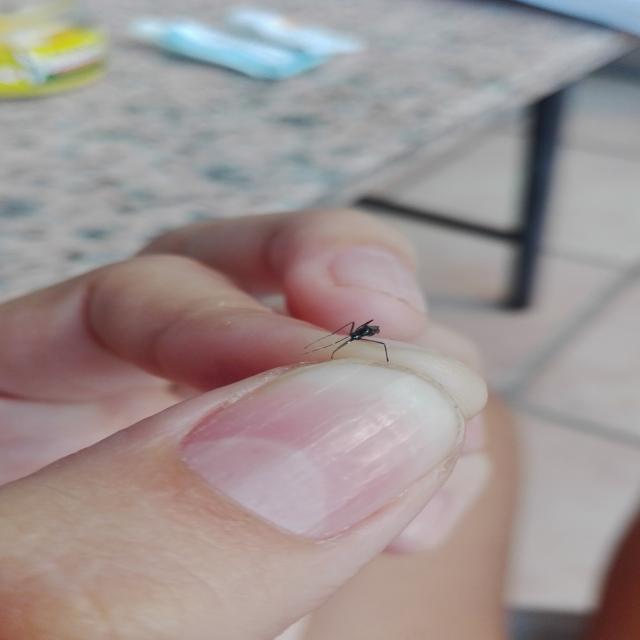albopictus: (301, 314, 394, 362)
